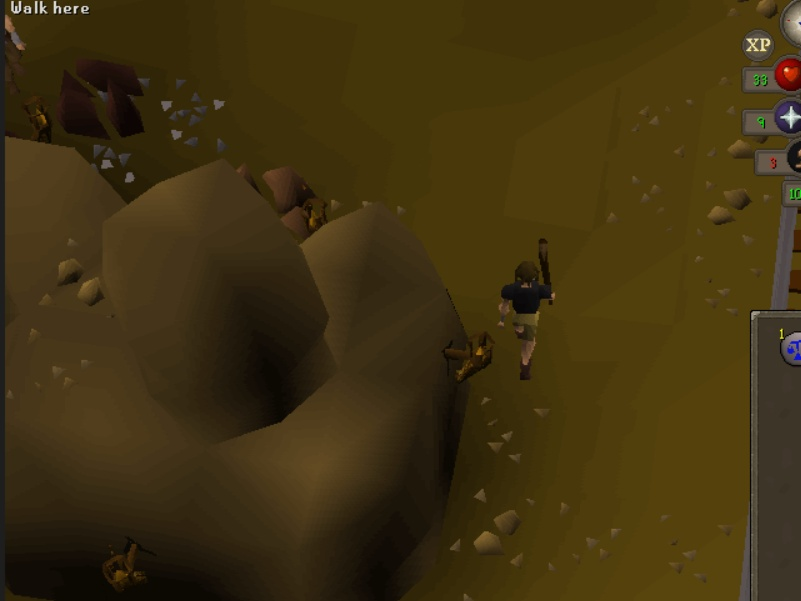iron: (56, 48, 156, 141)
